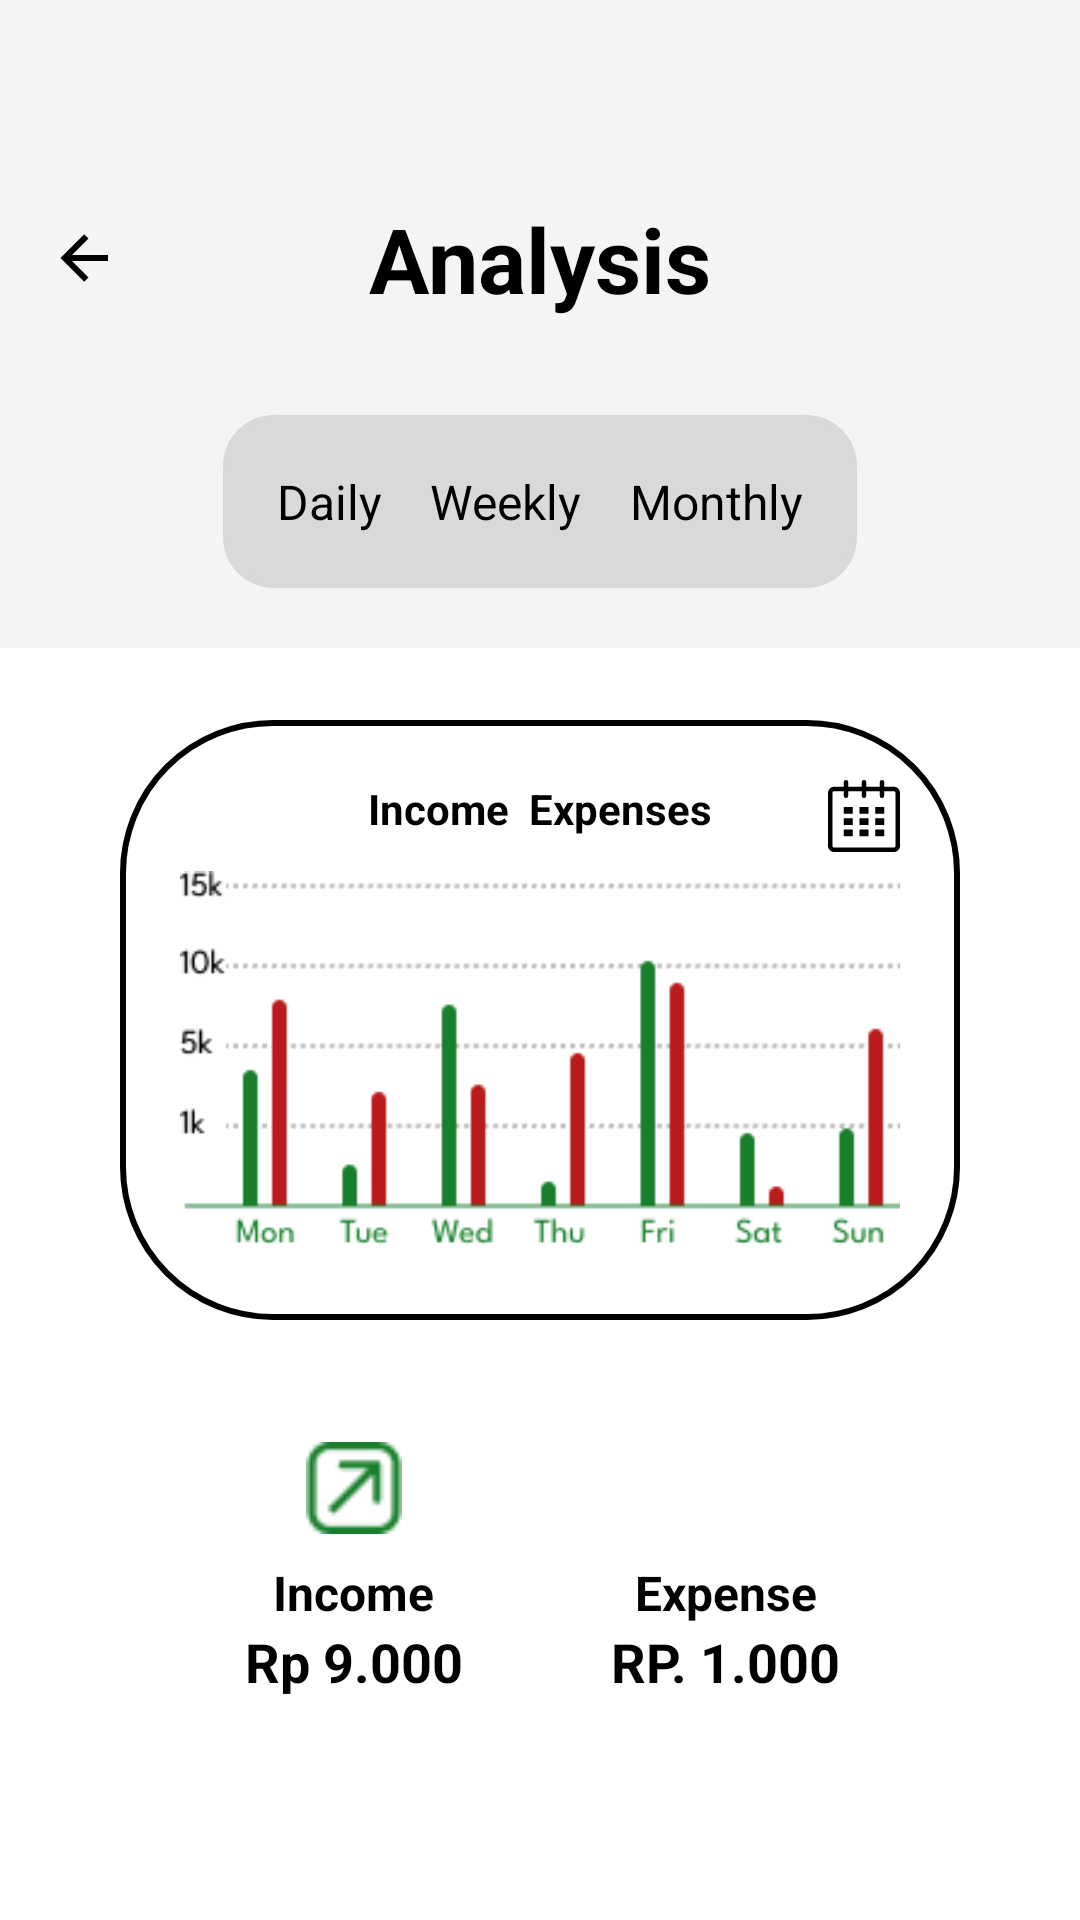

Icon bounding boxes for this 1080*1920 phone screenshot, format [left=x1, top=y1, right=x2, bottom=y2]:
Back Arrow: [left=60, top=234, right=108, bottom=282]
Calendar Icon: [left=828, top=780, right=900, bottom=852]
